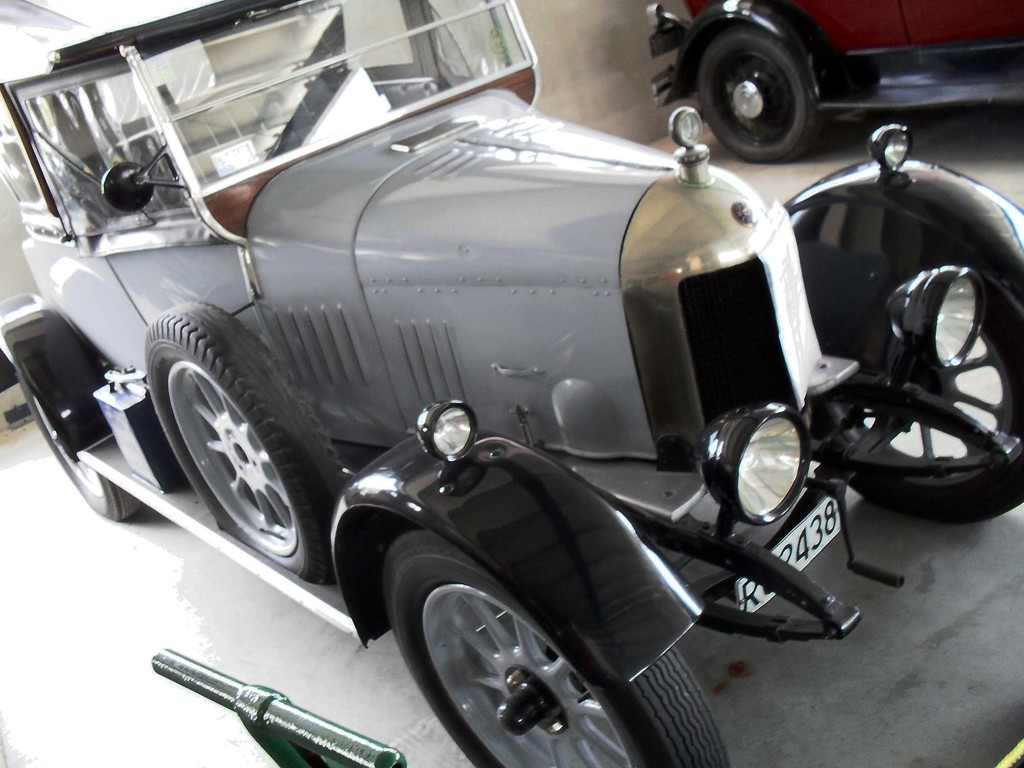Car: (61, 0, 1024, 768), (646, 0, 1023, 166)
